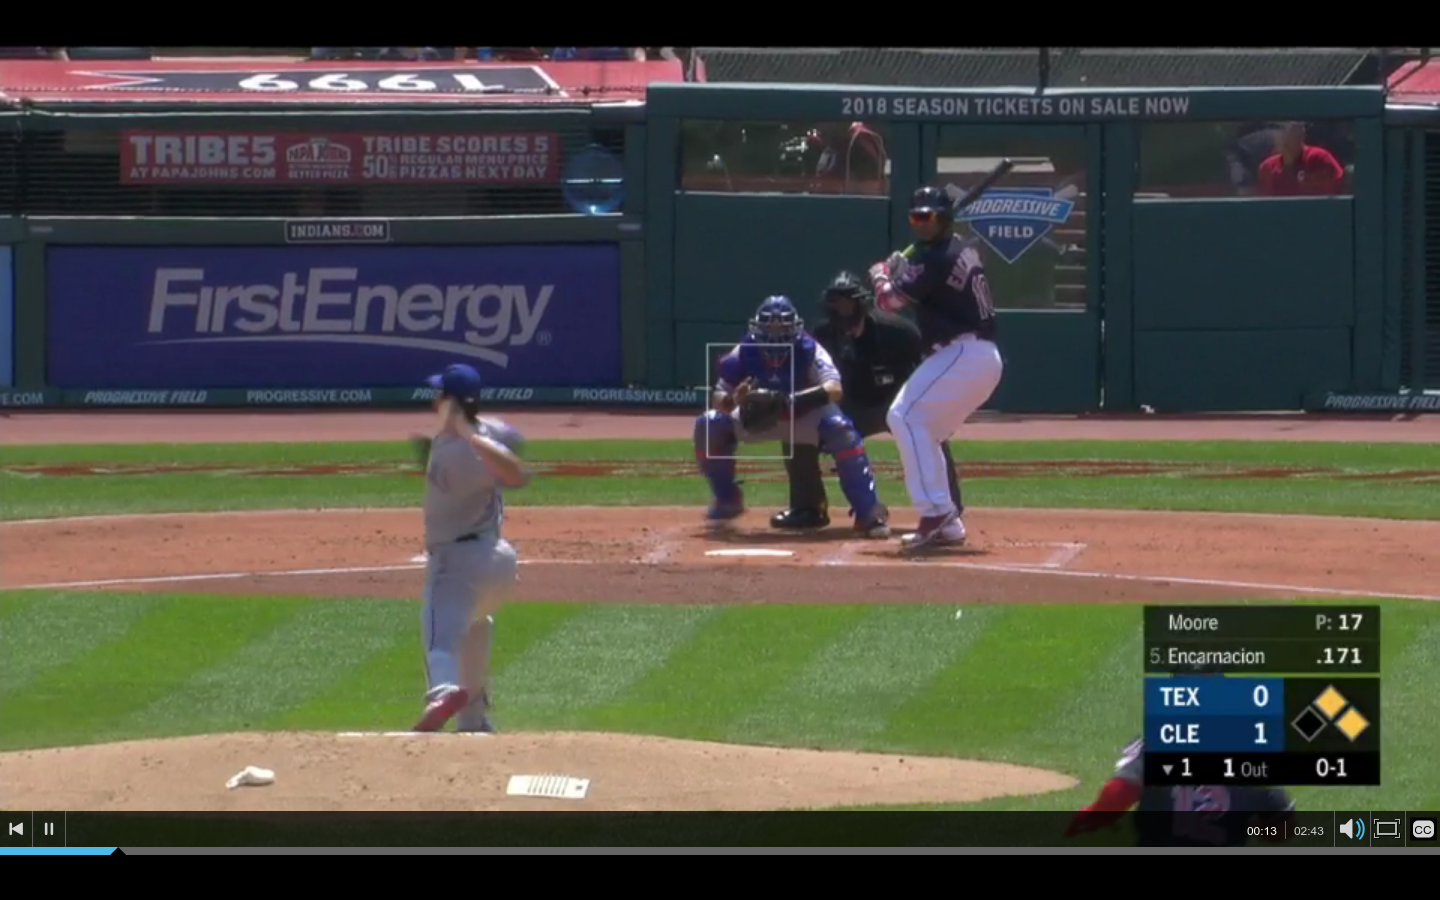baseball bat: (948, 154, 1018, 206)
baseball player: (870, 185, 1007, 560), (407, 354, 533, 754), (698, 288, 888, 531)
referee: (776, 266, 962, 531)
